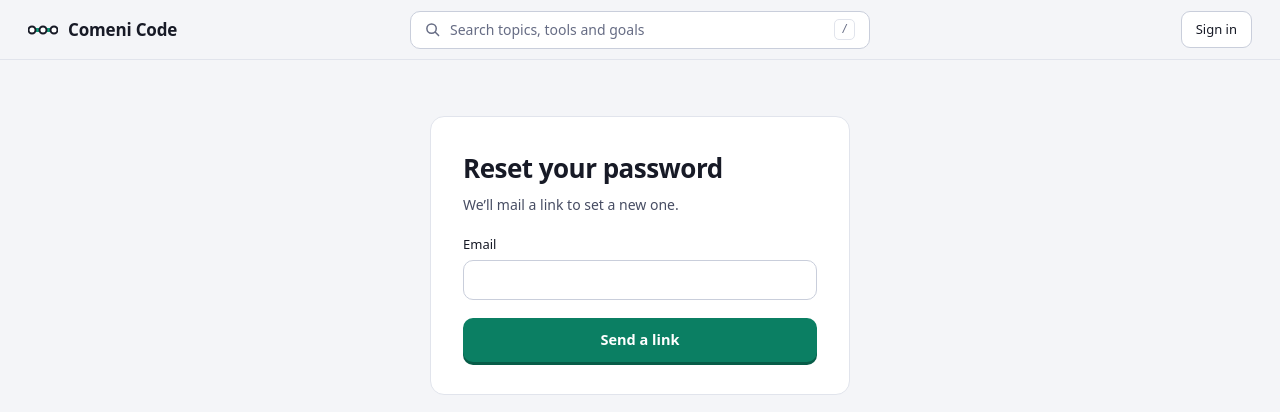
Scenario: resetting a password › says a link is on its way, whoever asked
Type "ada@example.org" into the field labelled "Email" at coordinates (640, 280), box [463,260,817,300]
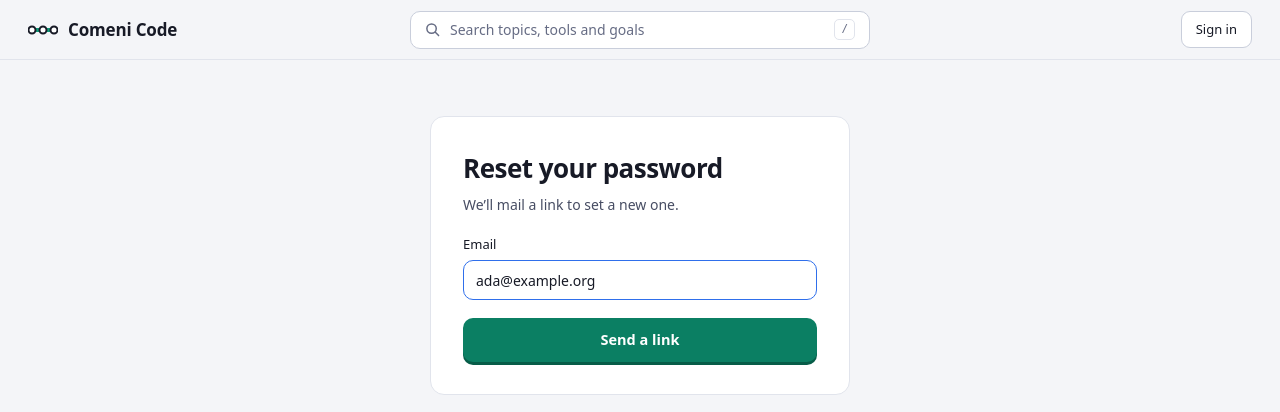
Click the button "Send a link" at coordinates (640, 340), box [463,318,817,362]
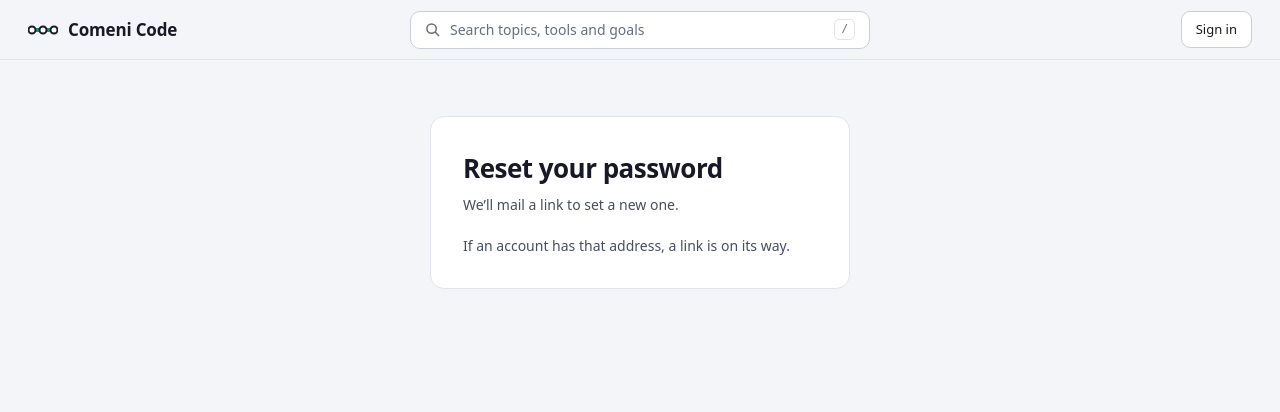
Check: the text "If an account has that address, a link is on its way." is shown, box [463,235,817,256]
